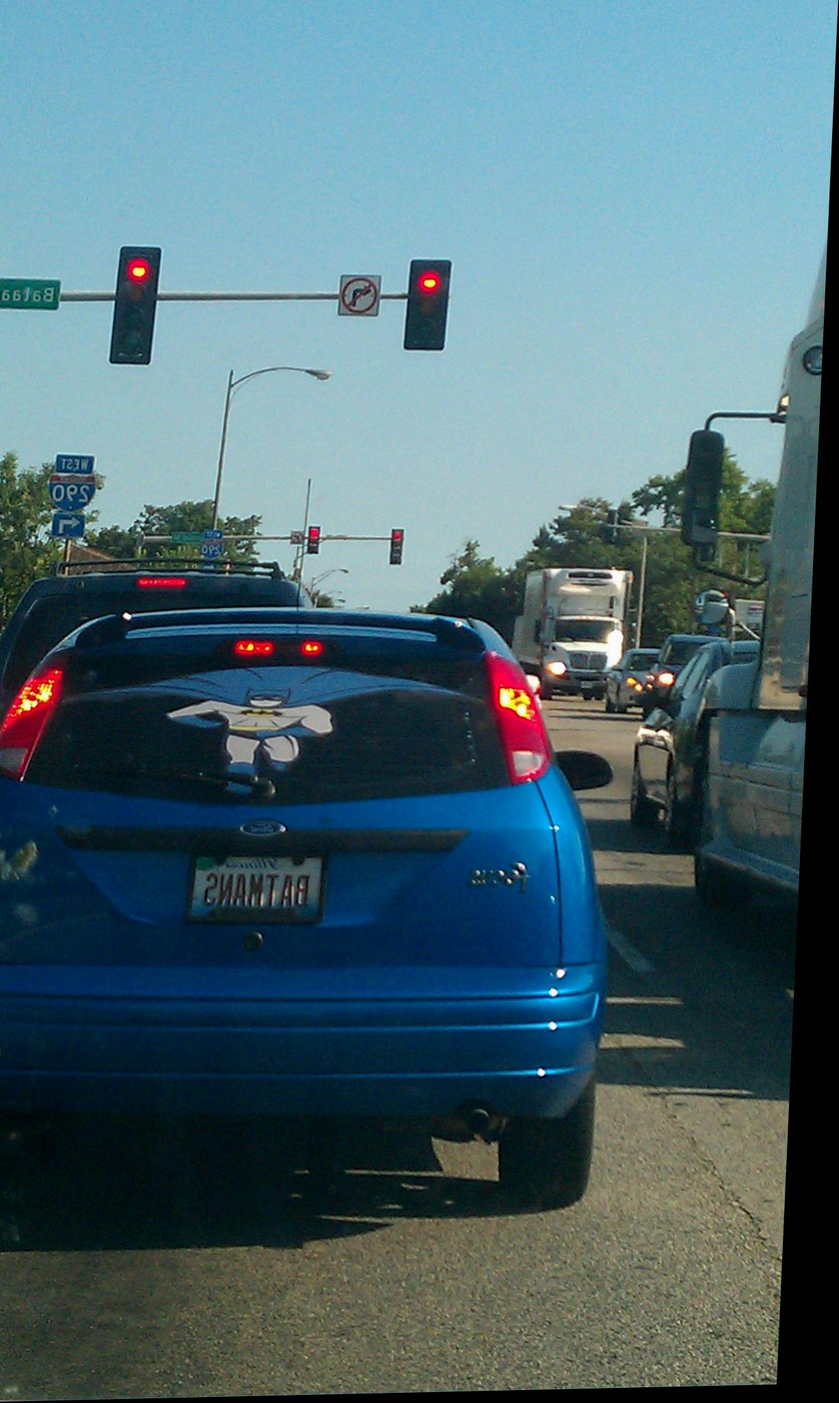License_Plate: (170, 825, 345, 956)
